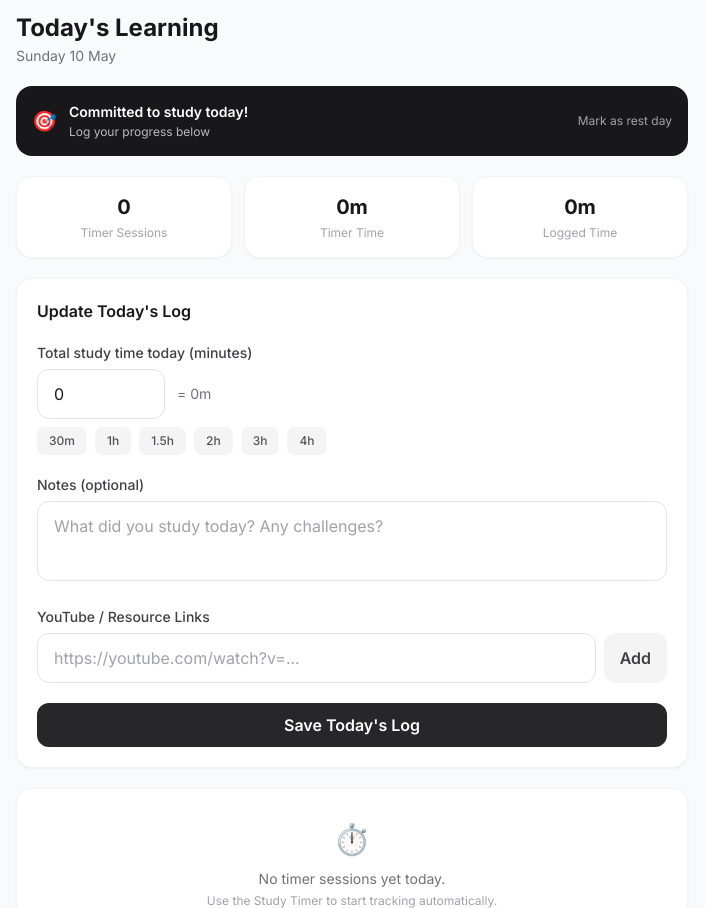
Test: DailyLog — Today's Learning › adds and removes YouTube links
Step 1. Type "https://youtube.com/watch?v=dQw4w9WgXcQ" into the field with placeholder "https://youtube.com/watch?v=..." → coordinates (316, 658), box [37,633,596,683]
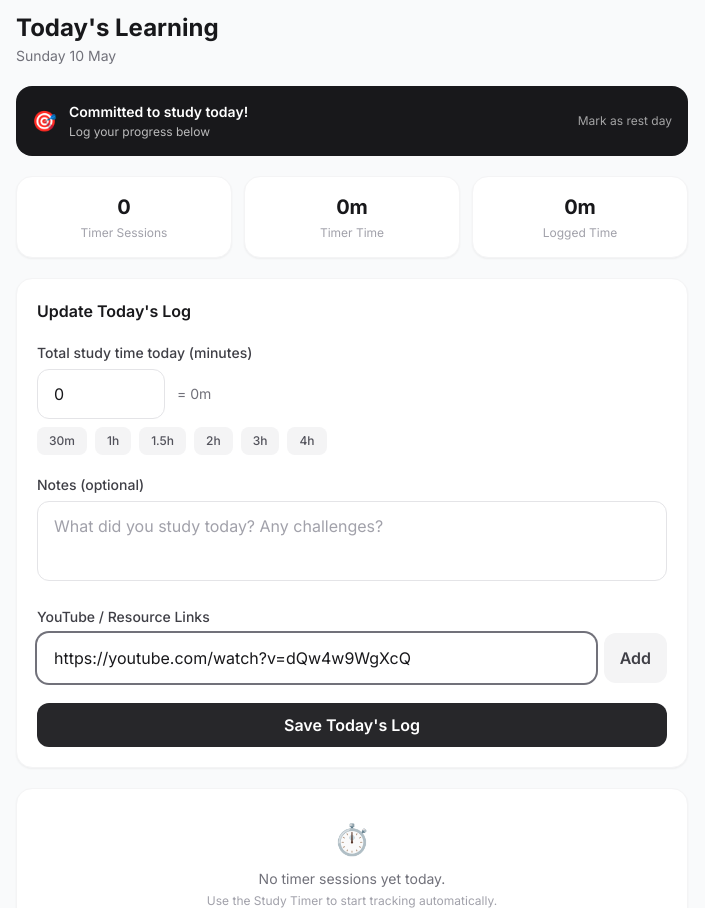
Step 2. Click the button "Add" → coordinates (635, 658), box [604,633,667,683]
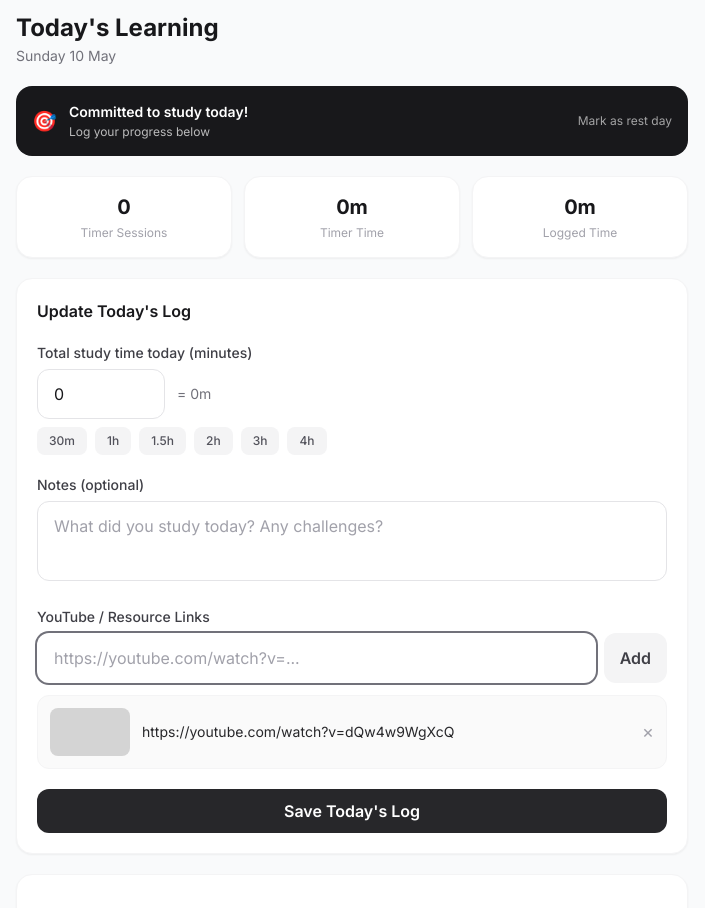
Result: the link "https://youtube.com/watch?v=dQw4w9WgXcQ" is shown at [142,723,454,740]
# Remove it
Step 3. Click the button "×" → coordinates (648, 732), box [642,723,654,741]
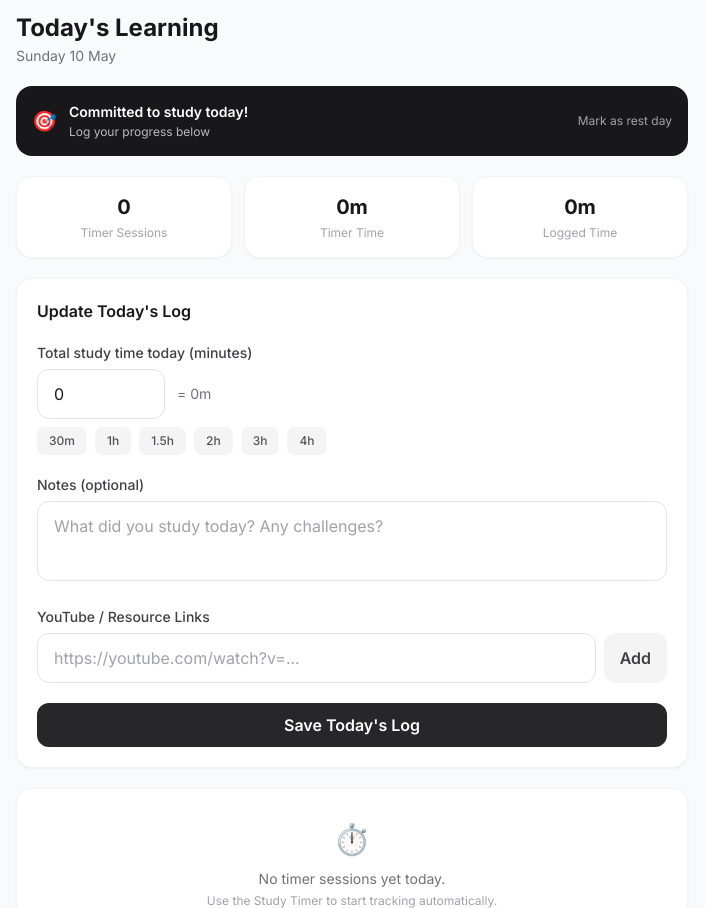
Result: the link "https://youtube.com/watch?v=dQw4w9WgXcQ" is gone
